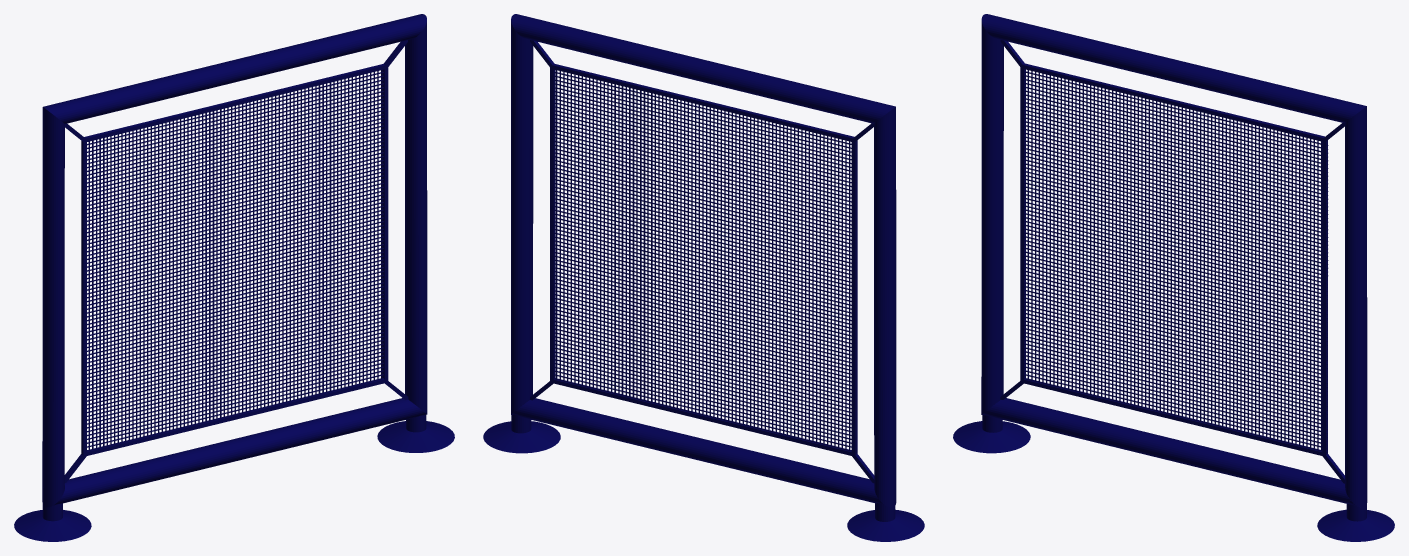
Rendered from GradeSaida2.obj.
The picture shows the model from 3 angles, left to right: view 1: azimuth 30°, elevation 25°; view 2: azimuth 150°, elevation 25°; view 3: azimuth 330°, elevation 25°; orthographic projection.
Parts seen in each view (by area): view 1: Mesh.1797_Mesh.100_Cylinder.000, Mesh.1910_Mesh.063_Cylinder.000, Mesh.1840_Mesh.029_Cylinder.000, Mesh.1792_Mesh.050_Cylinder.000, Mesh.1875_Mesh.152_Cube.000, Mesh.1921_Mesh.155_Cube.000, Mesh.1892_Mesh.055_Cube.000, Mesh.1851_Mesh.085_Cone.000, Mesh.1871_Mesh.137_Cone.000, Mesh.1899_Mesh.154_Cube.000, Mesh.1783_Mesh.107_Cube.072.000, Mesh.1825_Mesh.127_Cube.034.000 (+143 smaller); view 2: Mesh.1797_Mesh.100_Cylinder.000, Mesh.1910_Mesh.063_Cylinder.000, Mesh.1840_Mesh.029_Cylinder.000, Mesh.1792_Mesh.050_Cylinder.000, Mesh.1892_Mesh.055_Cube.000, Mesh.1921_Mesh.155_Cube.000, Mesh.1871_Mesh.137_Cone.000, Mesh.1875_Mesh.152_Cube.000, Mesh.1851_Mesh.085_Cone.000, Mesh.1899_Mesh.154_Cube.000, Mesh.1789_Mesh.143_Cube.056.000, Mesh.1788_Mesh.167_Cube.071.000 (+138 smaller); view 3: Mesh.1840_Mesh.029_Cylinder.000, Mesh.1910_Mesh.063_Cylinder.000, Mesh.1797_Mesh.100_Cylinder.000, Mesh.1792_Mesh.050_Cylinder.000, Mesh.1921_Mesh.155_Cube.000, Mesh.1851_Mesh.085_Cone.000, Mesh.1875_Mesh.152_Cube.000, Mesh.1892_Mesh.055_Cube.000, Mesh.1871_Mesh.137_Cone.000, Mesh.1899_Mesh.154_Cube.000, Mesh.1911_Mesh.027_Cube.039.000, Mesh.1883_Mesh.128_Cube.027.000 (+133 smaller).
Boxes of the visible parts, box(x1,y1,x2,y2) form: Mesh.1797_Mesh.100_Cylinder.000: box(42, 107, 64, 507); Mesh.1910_Mesh.063_Cylinder.000: box(43, 14, 426, 123); Mesh.1840_Mesh.029_Cylinder.000: box(405, 14, 427, 413); Mesh.1792_Mesh.050_Cylinder.000: box(53, 398, 426, 505); Mesh.1875_Mesh.152_Cube.000: box(382, 68, 388, 382); Mesh.1921_Mesh.155_Cube.000: box(84, 64, 386, 142); Mesh.1892_Mesh.055_Cube.000: box(81, 140, 86, 456); Mesh.1851_Mesh.085_Cone.000: box(14, 510, 91, 541); Mesh.1871_Mesh.137_Cone.000: box(377, 421, 454, 452); Mesh.1899_Mesh.154_Cube.000: box(84, 379, 386, 456); Mesh.1783_Mesh.107_Cube.072.000: box(329, 82, 331, 391); Mesh.1825_Mesh.127_Cube.034.000: box(212, 111, 214, 419); Mesh.1797_Mesh.100_Cylinder.000: box(874, 107, 896, 507); Mesh.1910_Mesh.063_Cylinder.000: box(511, 14, 895, 123); Mesh.1840_Mesh.029_Cylinder.000: box(511, 14, 533, 414); Mesh.1792_Mesh.050_Cylinder.000: box(511, 398, 883, 504); Mesh.1892_Mesh.055_Cube.000: box(851, 140, 857, 454); Mesh.1921_Mesh.155_Cube.000: box(551, 64, 854, 142); Mesh.1871_Mesh.137_Cone.000: box(483, 421, 560, 453); Mesh.1875_Mesh.152_Cube.000: box(550, 66, 555, 382); Mesh.1851_Mesh.085_Cone.000: box(847, 509, 924, 541); Mesh.1899_Mesh.154_Cube.000: box(551, 379, 854, 456); Mesh.1789_Mesh.143_Cube.056.000: box(643, 91, 645, 400); Mesh.1788_Mesh.167_Cube.071.000: box(621, 86, 623, 394); Mesh.1840_Mesh.029_Cylinder.000: box(1345, 106, 1367, 507); Mesh.1910_Mesh.063_Cylinder.000: box(981, 14, 1366, 123); Mesh.1797_Mesh.100_Cylinder.000: box(981, 21, 1003, 414); Mesh.1792_Mesh.050_Cylinder.000: box(982, 398, 1360, 507); Mesh.1921_Mesh.155_Cube.000: box(1021, 63, 1324, 142); Mesh.1851_Mesh.085_Cone.000: box(953, 421, 1030, 453); Mesh.1875_Mesh.152_Cube.000: box(1322, 140, 1327, 454); Mesh.1892_Mesh.055_Cube.000: box(1020, 65, 1025, 382); Mesh.1871_Mesh.137_Cone.000: box(1317, 509, 1394, 541); Mesh.1899_Mesh.154_Cube.000: box(1021, 379, 1324, 456); Mesh.1911_Mesh.027_Cube.039.000: box(1126, 94, 1127, 403); Mesh.1883_Mesh.128_Cube.027.000: box(1093, 86, 1094, 395).
Size of the model in its own units: 2.36 by 2.19 by 0.3696.
